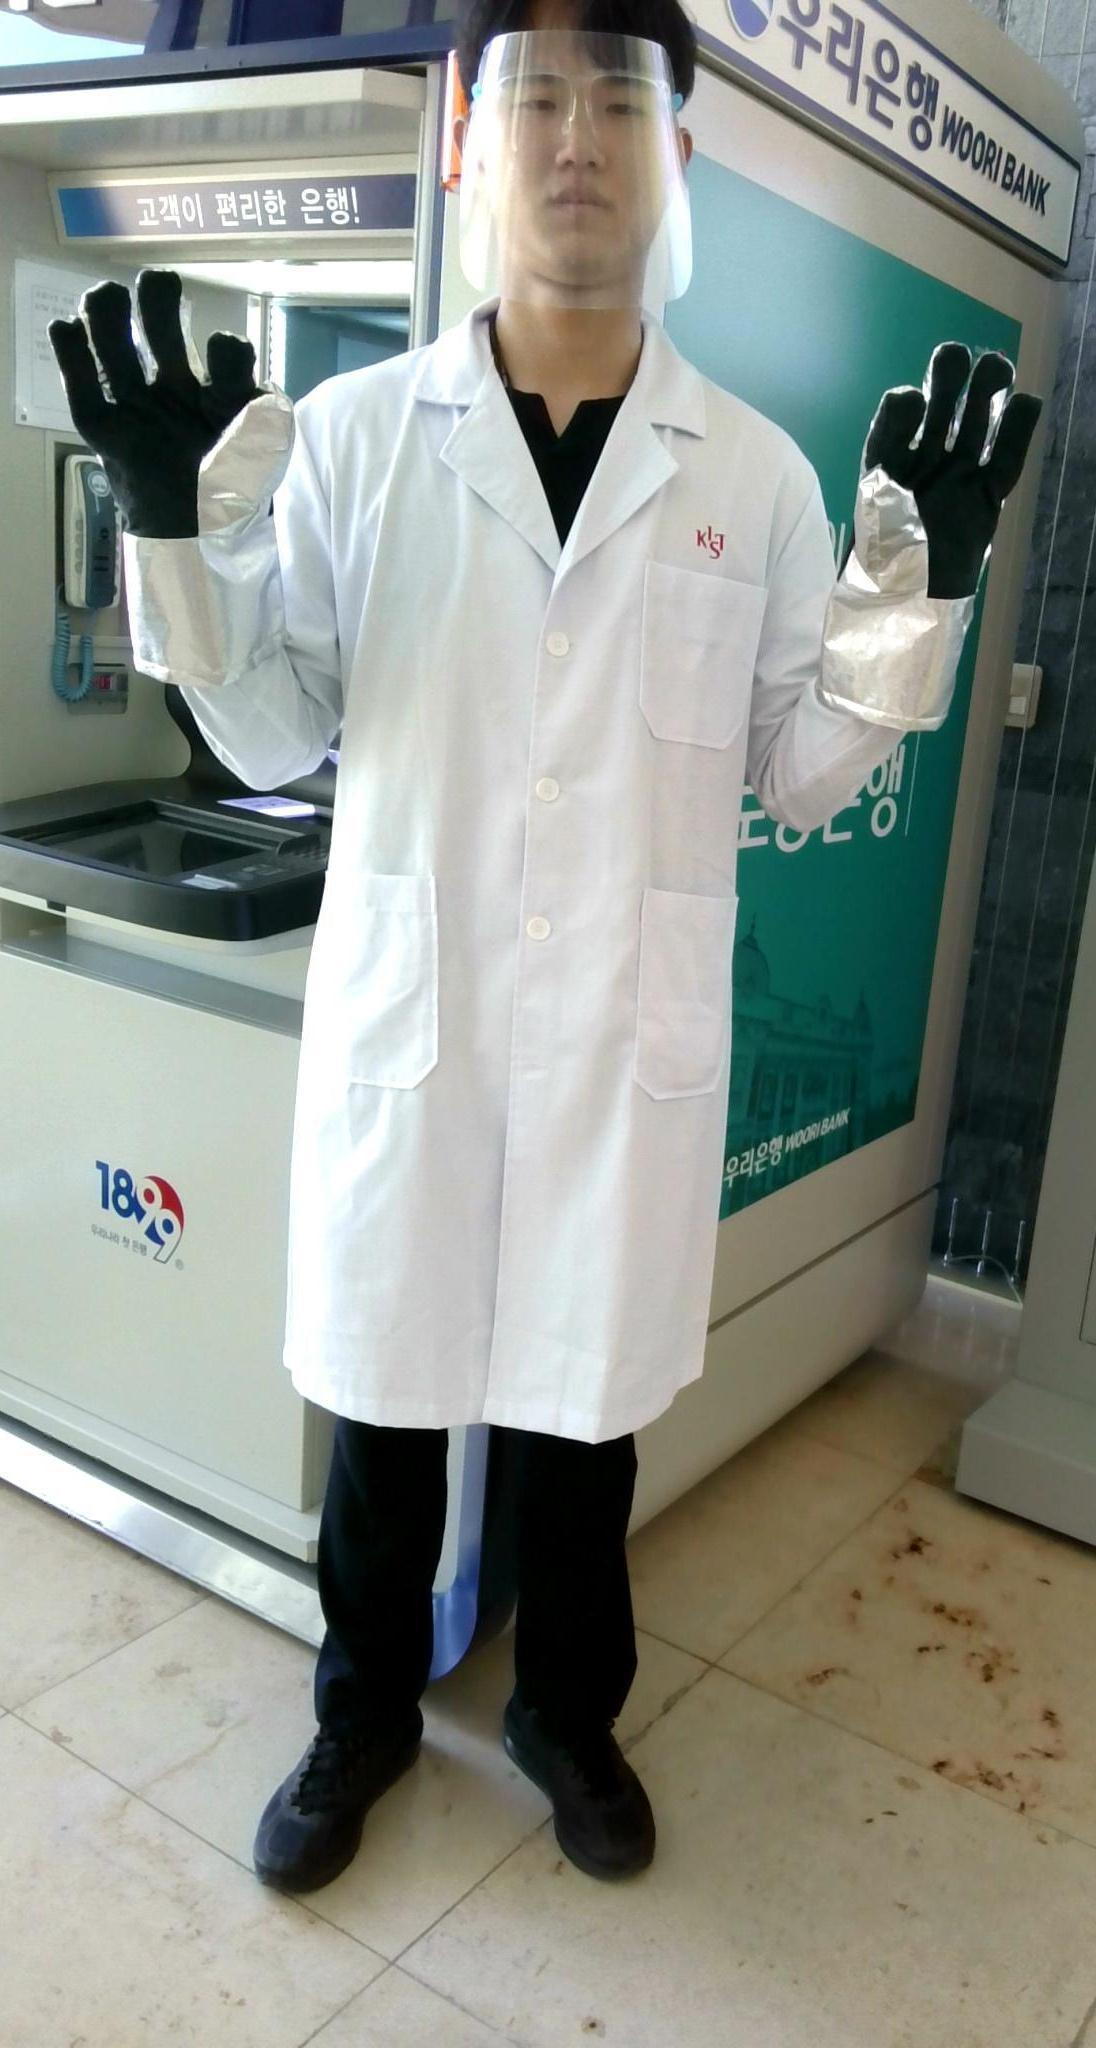lab_coat: (275, 427, 812, 1365)
